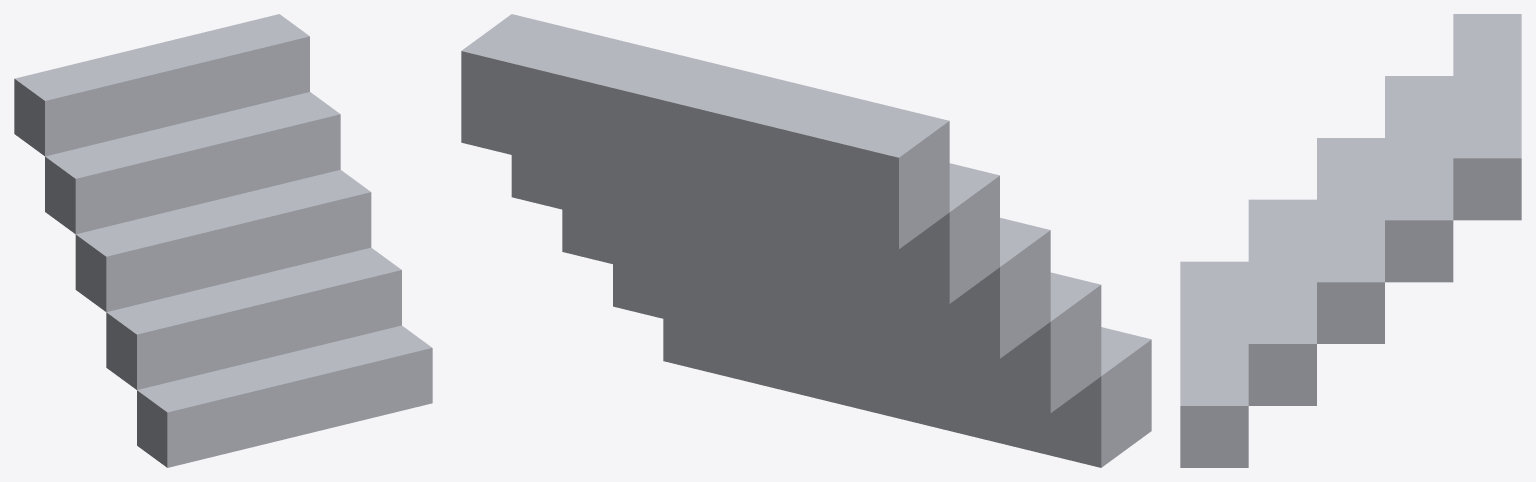
File: A3D_sample_stairs.fbx
3 renders of one model, left to right at view 1: azimuth 30°, elevation 25°; view 2: azimuth 150°, elevation 25°; view 3: azimuth 270°, elevation 25°, orthographic. The views are drawn at different scales.
Parts seen in each view (by area): view 1: castle_stairs_lean; view 2: castle_stairs_lean; view 3: castle_stairs_lean.
Boxes of the visible parts, bbox=[...] form: castle_stairs_lean: bbox=[14, 14, 432, 467]; castle_stairs_lean: bbox=[461, 14, 1151, 467]; castle_stairs_lean: bbox=[1180, 14, 1521, 467].
Bounding box in the file's own units: 10 × 10 × 10.
